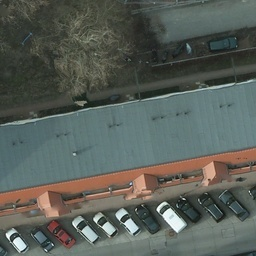car: (220, 193, 250, 222), (115, 208, 142, 238), (74, 215, 101, 245), (135, 205, 162, 234), (48, 221, 74, 249), (199, 194, 223, 223), (175, 198, 202, 222), (96, 212, 118, 241), (31, 227, 53, 254), (208, 35, 239, 54)
van: (156, 200, 188, 234)
